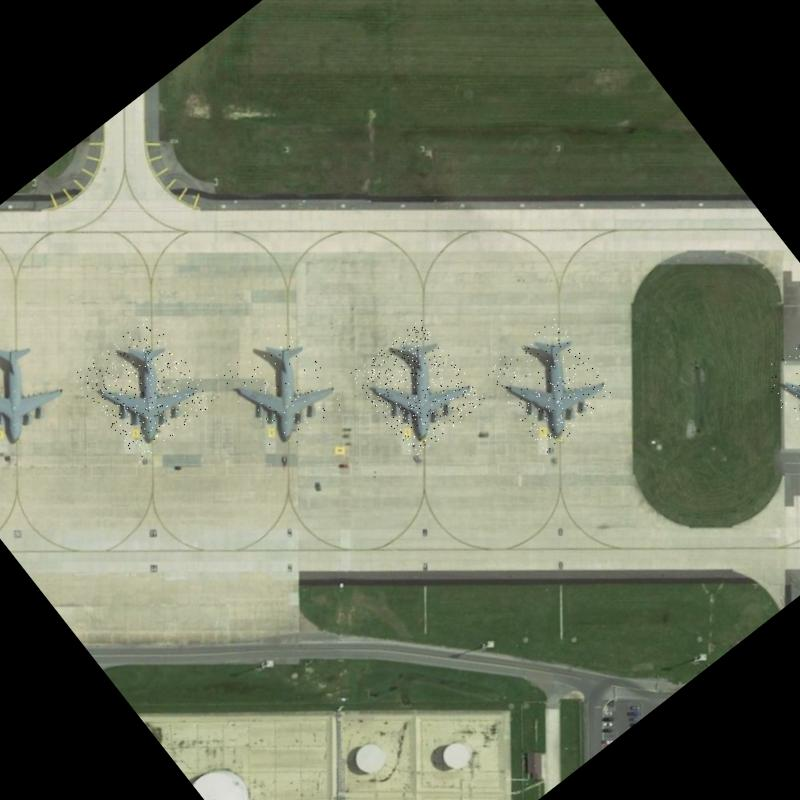A3: (71, 314, 218, 464), (348, 317, 488, 459), (482, 316, 620, 454), (214, 320, 349, 458), (0, 321, 78, 461), (756, 315, 800, 457)
